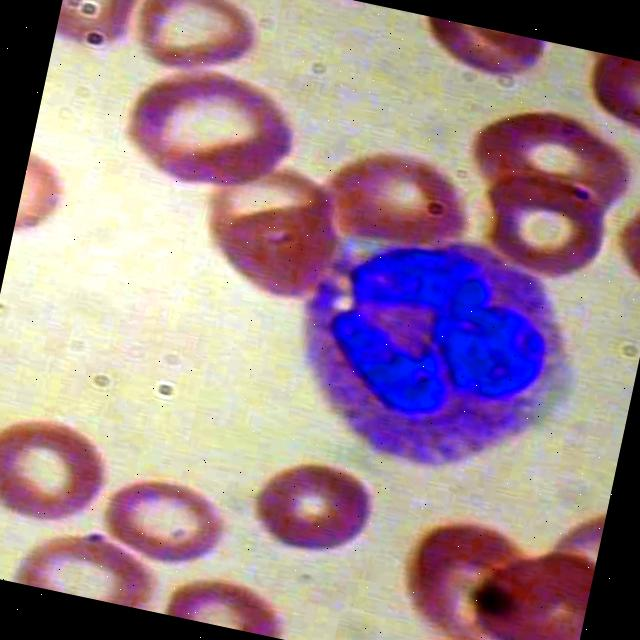RBC: (110, 49, 306, 214), (454, 93, 640, 230), (312, 137, 486, 270), (469, 160, 618, 292), (212, 184, 356, 311), (242, 446, 386, 572), (95, 461, 240, 578), (0, 403, 117, 543), (8, 518, 166, 612), (122, 0, 274, 91), (156, 554, 298, 640), (10, 148, 84, 250), (50, 0, 157, 67), (574, 50, 640, 140)
WBC: (240, 186, 614, 509)
